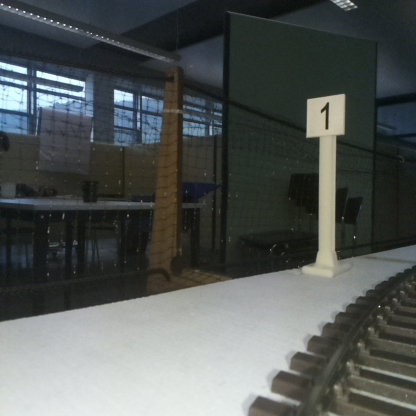white-info-1: (307, 96, 344, 272)
